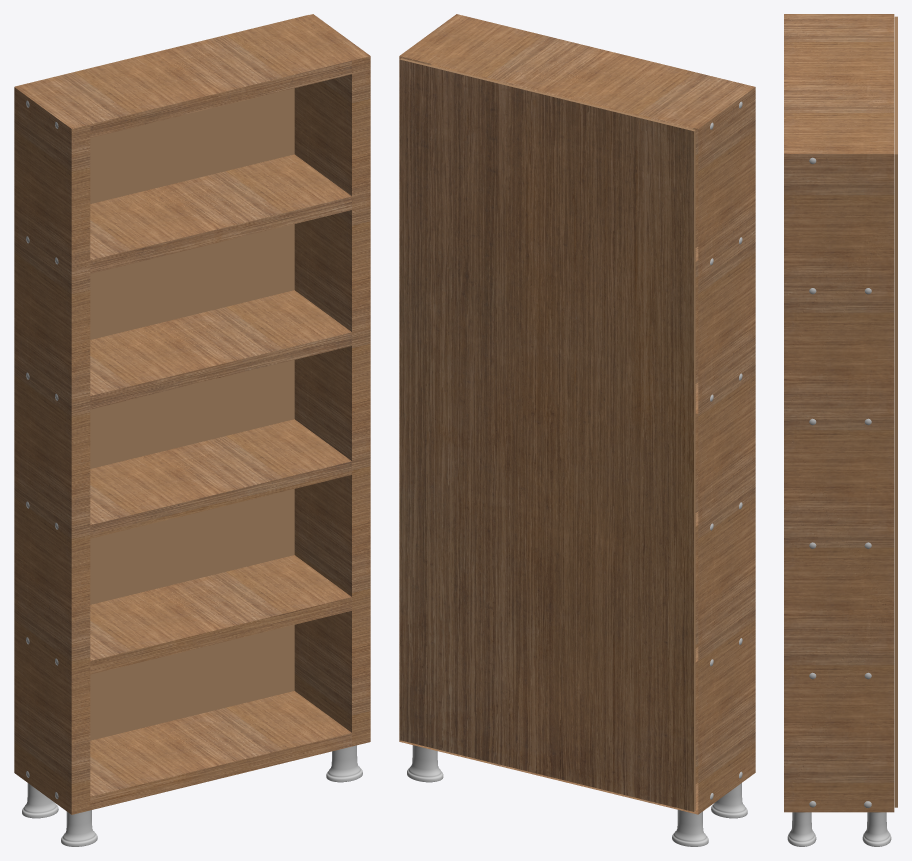
The model's file is bookshelf.obj.
3 renders of one model, left to right at view 1: azimuth 30°, elevation 25°; view 2: azimuth 150°, elevation 25°; view 3: azimuth 270°, elevation 25°, orthographic. The views are drawn at different scales.
Visible parts, largest first — view 1: Cube, Plane, Cylinder.002, Cylinder.001, Cylinder.003; view 2: Plane, Cube, Cylinder.003, Cylinder, Cylinder.002; view 3: Cube, Plane, Cylinder.001, Cylinder.
Boxes of the visible parts, box(x1,y1,x2,y2) form: Cube: box(14, 14, 370, 814); Plane: box(15, 15, 308, 740); Cylinder.002: box(61, 810, 97, 846); Cylinder.001: box(326, 745, 362, 782); Cylinder.003: box(22, 783, 58, 818); Plane: box(399, 58, 695, 811); Cube: box(399, 14, 755, 814); Cylinder.003: box(672, 810, 708, 846); Cylinder: box(407, 745, 443, 782); Cylinder.002: box(711, 783, 747, 818); Cube: box(784, 14, 894, 812); Plane: box(894, 16, 897, 807); Cylinder.001: box(787, 812, 816, 846); Cylinder: box(862, 812, 891, 846).
Bounding box in the file's own units: 5.66 × 12.98 × 1.93.
3 materials, 1 textured.
